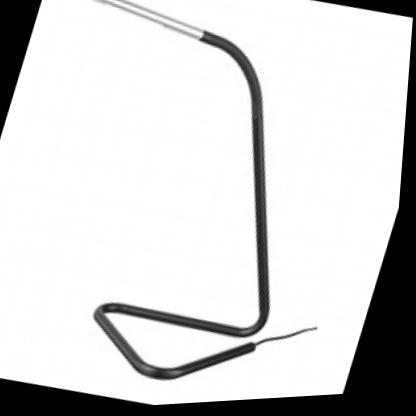Lamp: (0, 0, 376, 416)
